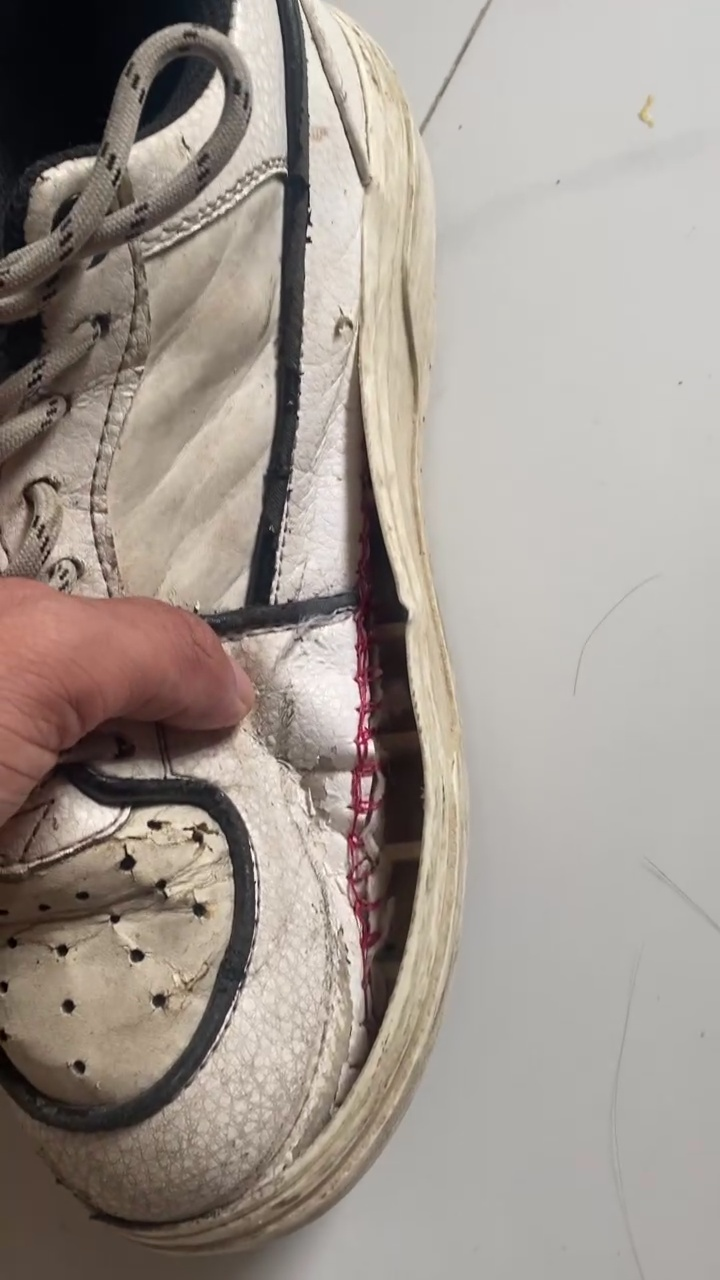bonding: (317, 378, 434, 1027)
